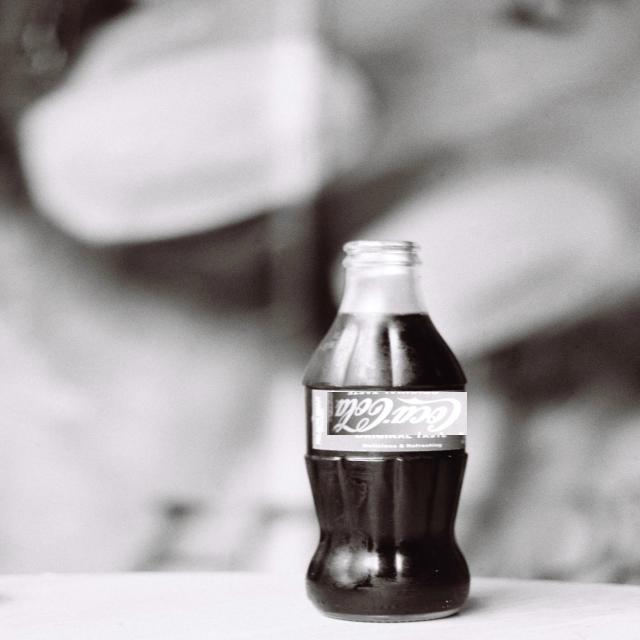coca-cola: (327, 392, 467, 435)
